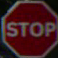Stop: (1, 8, 57, 48)
